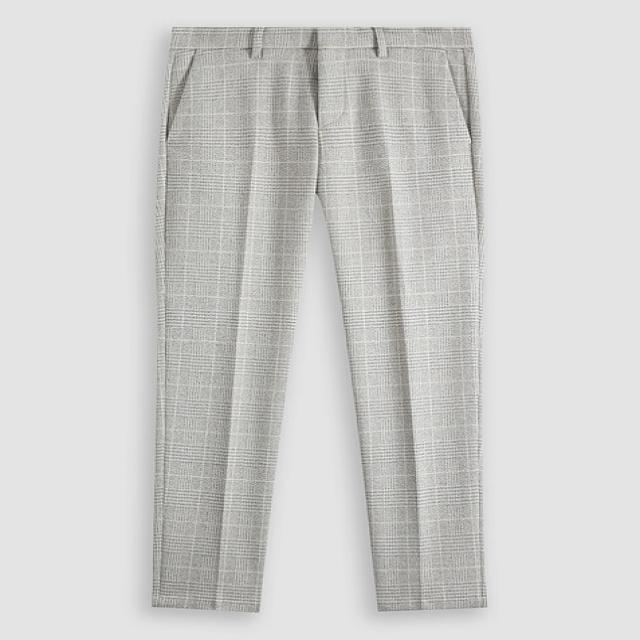long-pants: (152, 28, 491, 616)
